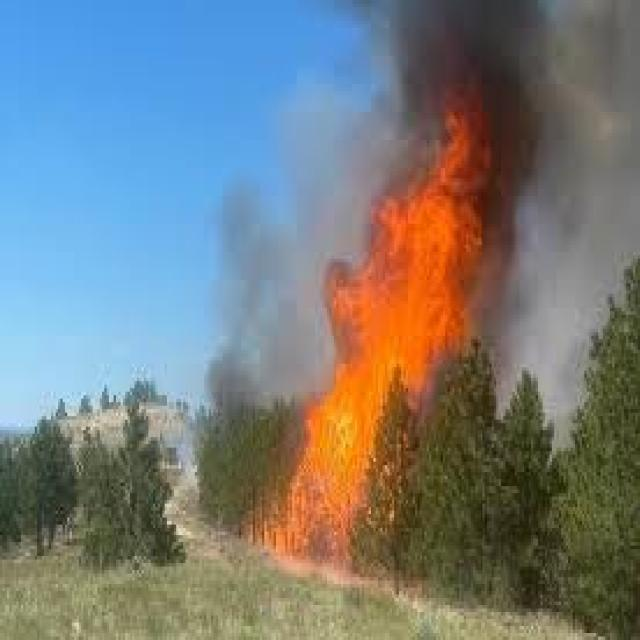Fire: (322, 96, 500, 338), (273, 342, 367, 567), (312, 228, 435, 374)
Smoke: (348, 0, 640, 171)
